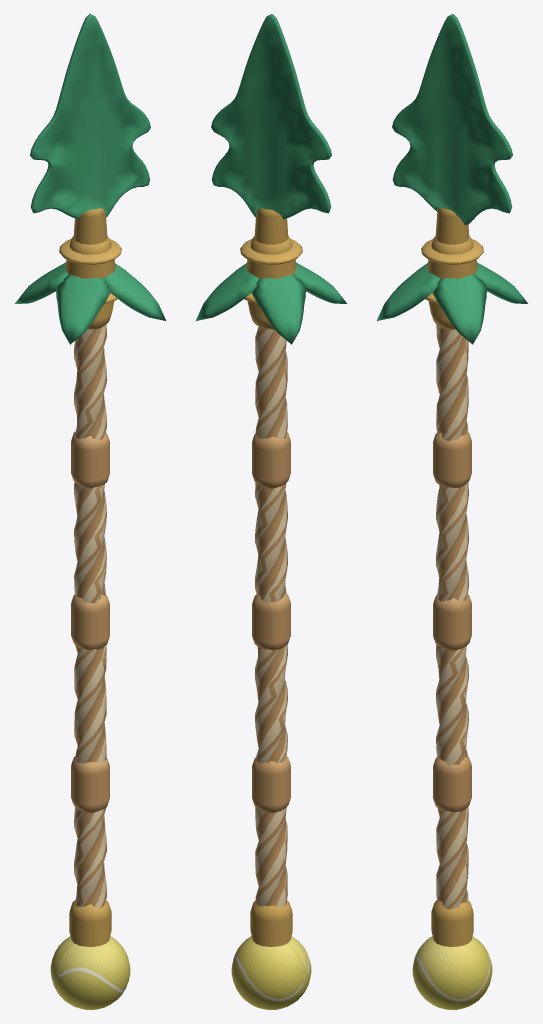
The model's file is golden-lance.glb.
3 renders of one model, left to right at view 1: azimuth 30°, elevation 25°; view 2: azimuth 150°, elevation 25°; view 3: azimuth 330°, elevation 25°, orthographic.
Visible parts, largest first — view 1: golden_lance; view 2: golden_lance; view 3: golden_lance.
Part boxes in pixels (bbox=[...]): golden_lance: bbox=[14, 14, 166, 1009]; golden_lance: bbox=[195, 14, 347, 1009]; golden_lance: bbox=[376, 14, 528, 1009].
Bounding box in the file's own units: 0.2023 × 1.59 × 0.1618.
Materials: 1 (1 with a texture image).
